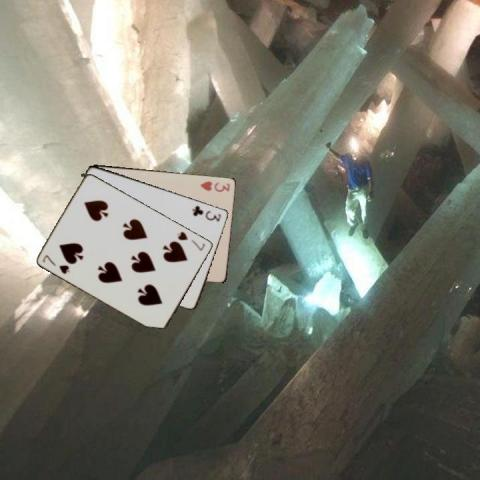3c: (189, 202, 223, 222)
3h: (198, 178, 232, 193)
7s: (174, 229, 207, 252), (40, 252, 71, 276)
